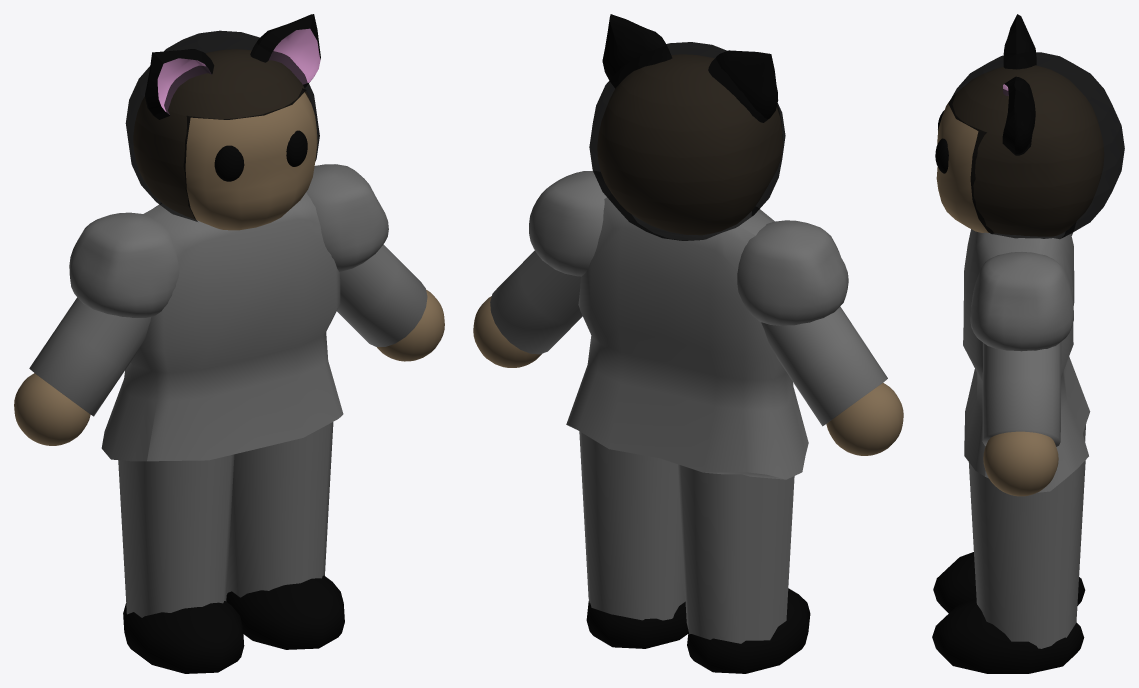
The model's file is knight male.fbx.
3 renders of one model, left to right at view 1: azimuth 30°, elevation 25°; view 2: azimuth 150°, elevation 25°; view 3: azimuth 270°, elevation 25°, orthographic. The views are drawn at different scales.
Visible parts, largest first — view 1: pCube1, Head, LLeg, pSphere1, RLeg, LShoulder, LArm, LFoot, RFoot, RArm, RShoulder, CatEars (+3 smaller); view 2: pCube1, pSphere1, Head, LLeg, RLeg, LShoulder, LArm, RArm, CatEars, RShoulder, LFoot, LHand (+2 smaller); view 3: pSphere1, Head, RLeg, pCube1, RShoulder, RArm, RFoot, RHand, CatEars, LFoot, Eyes.
Boxes of the visible parts, bbox=[...] form: pCube1: bbox=[101, 192, 343, 461]; Head: bbox=[133, 49, 317, 230]; LLeg: bbox=[118, 454, 234, 617]; pSphere1: bbox=[125, 30, 319, 221]; RLeg: bbox=[226, 422, 333, 597]; LShoulder: bbox=[69, 212, 179, 317]; LArm: bbox=[29, 297, 151, 416]; LFoot: bbox=[123, 601, 244, 673]; RFoot: bbox=[226, 575, 344, 649]; RArm: bbox=[337, 244, 427, 346]; RShoulder: bbox=[306, 164, 388, 271]; CatEars: bbox=[145, 14, 320, 119]; pCube1: bbox=[566, 197, 808, 479]; pSphere1: bbox=[589, 42, 785, 240]; Head: bbox=[597, 54, 782, 234]; LLeg: bbox=[678, 464, 794, 643]; RLeg: bbox=[579, 431, 685, 620]; LShoulder: bbox=[737, 220, 848, 325]; LArm: bbox=[761, 306, 887, 426]; RArm: bbox=[490, 250, 582, 354]; CatEars: bbox=[602, 14, 778, 122]; RShoulder: bbox=[529, 171, 606, 276]; LFoot: bbox=[687, 588, 810, 673]; LHand: bbox=[826, 383, 903, 455]; pSphere1: bbox=[948, 52, 1124, 239]; Head: bbox=[936, 65, 1103, 236]; RLeg: bbox=[968, 460, 1085, 648]; pCube1: bbox=[963, 229, 1090, 492]; RShoulder: bbox=[970, 252, 1073, 351]; RArm: bbox=[982, 342, 1061, 446]; RFoot: bbox=[932, 598, 1084, 673]; RHand: bbox=[983, 431, 1058, 496]; CatEars: bbox=[1002, 14, 1036, 155]; LFoot: bbox=[933, 552, 1085, 613]; Eyes: bbox=[935, 110, 948, 173].
Bounding box in the file's own units: 5.75 × 7.84 × 2.36.
